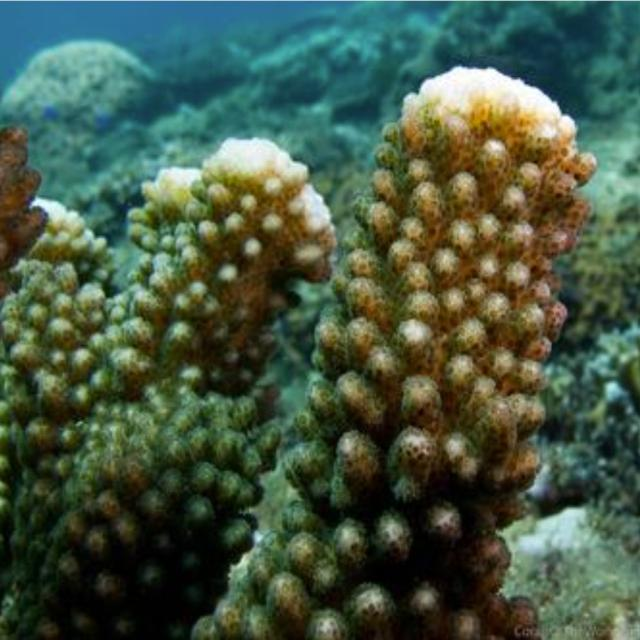Coral: (189, 65, 598, 640), (0, 136, 340, 640)
